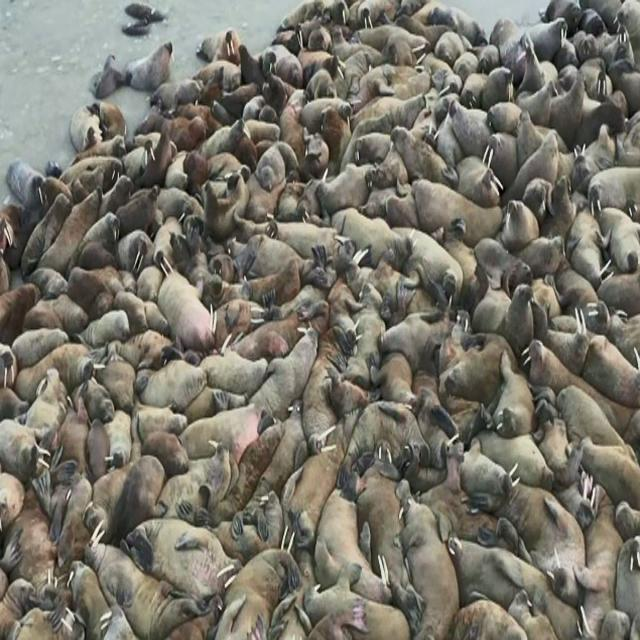walrus: (78, 210, 122, 268), (195, 25, 243, 65)
